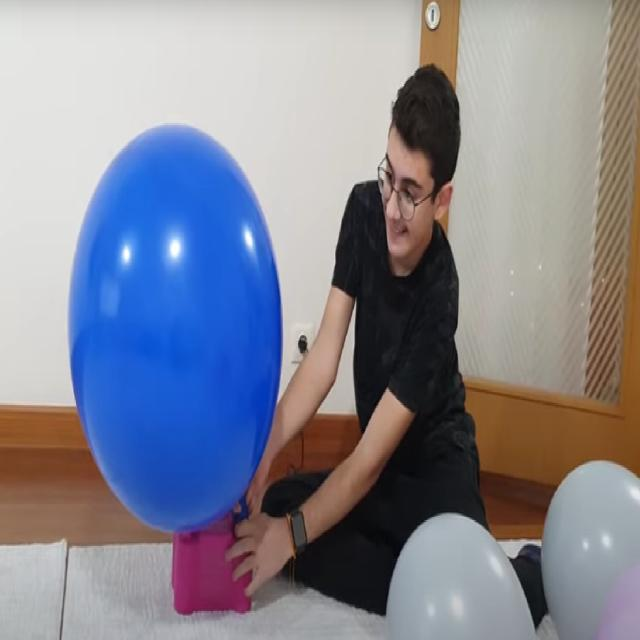balloon: (68, 124, 282, 530), (386, 510, 537, 640), (542, 458, 640, 640)
